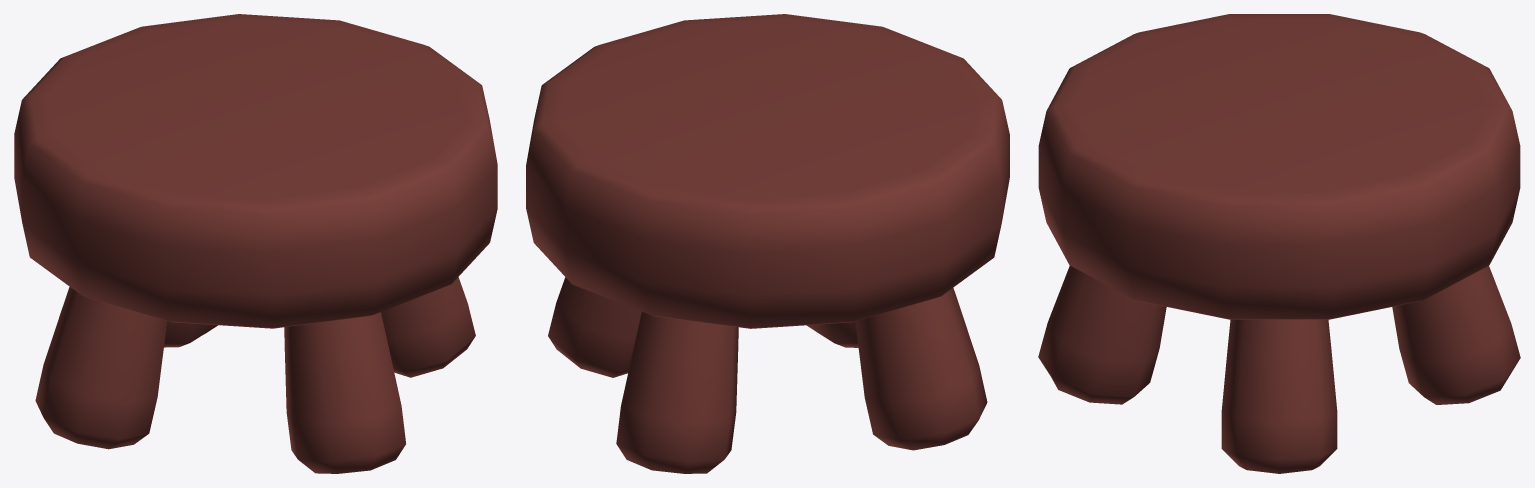
The model's file is stool.fbx.
3 renders of one model, left to right at view 1: azimuth 30°, elevation 25°; view 2: azimuth 150°, elevation 25°; view 3: azimuth 270°, elevation 25°, orthographic.
Parts seen in each view (by area): view 1: Cylinder.001, Cube.003, Cube.001, Cube, Cube.002; view 2: Cylinder.001, Cube.002, Cube.001, Cube, Cube.003; view 3: Cylinder.001, Cube, Cube.002, Cube.003.
Boxes of the visible parts, x1,y1,x2,y2 form: Cylinder.001: (14, 14, 497, 328); Cube.003: (284, 312, 405, 473); Cube.001: (35, 287, 166, 449); Cube: (381, 277, 475, 377); Cube.002: (164, 321, 217, 347); Cylinder.001: (526, 14, 1009, 328); Cube.002: (616, 312, 738, 473); Cube.001: (855, 288, 987, 450); Cube: (548, 277, 641, 377); Cube.003: (807, 321, 858, 347); Cylinder.001: (1038, 14, 1520, 319); Cube: (1221, 319, 1337, 473); Cube.002: (1392, 265, 1520, 404); Cube.003: (1038, 265, 1166, 404).
Bounding box in the file's own units: 1.52 × 1.01 × 1.52.
